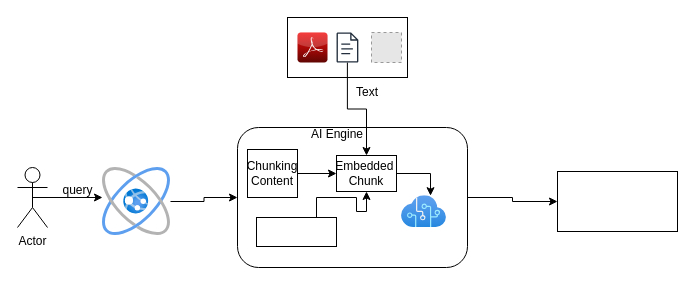
The diagram is 695 pixels wide and 285 high, and some of its shapes have lost their labels. Grey dashed boxes stand in for pictures. The centre of each missing label's shape, as x and y in pixels:
"document summarization of give file like pdf etc." belongs at (x=617, y=201).
"Embedded Query" belongs at (x=296, y=231).
